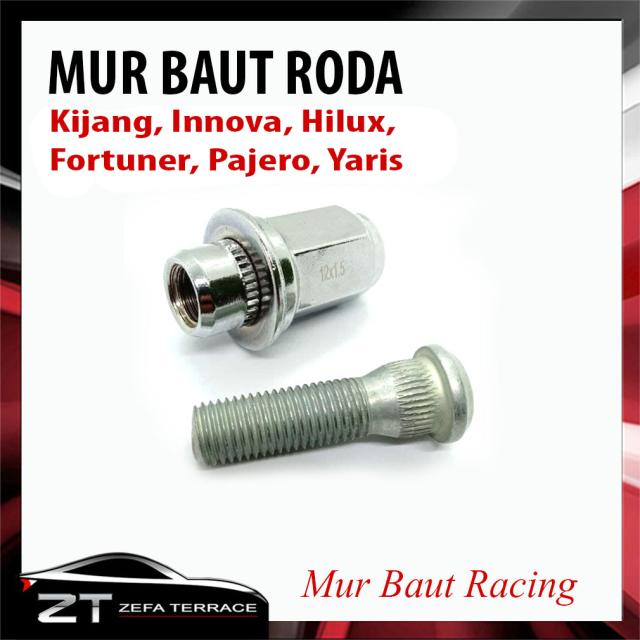Logam: (170, 341, 503, 490), (147, 191, 420, 353)
